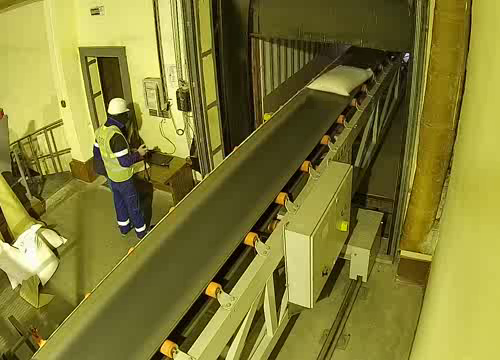bag: (300, 61, 376, 98)
